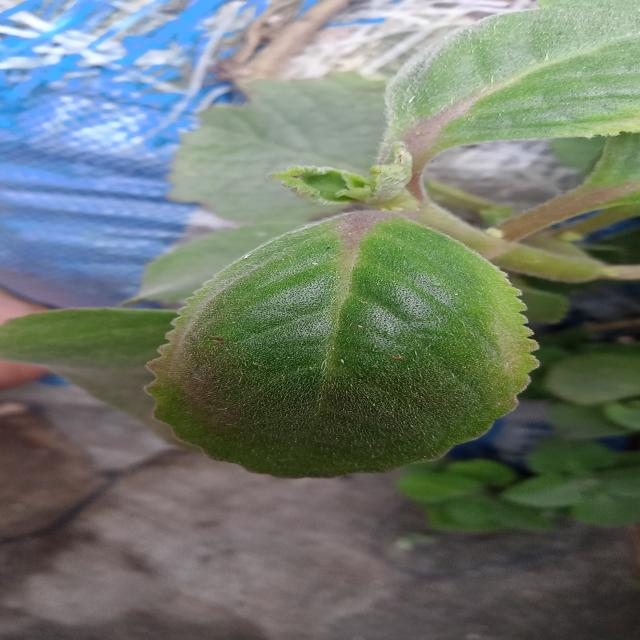Oregano: (131, 197, 561, 495)
